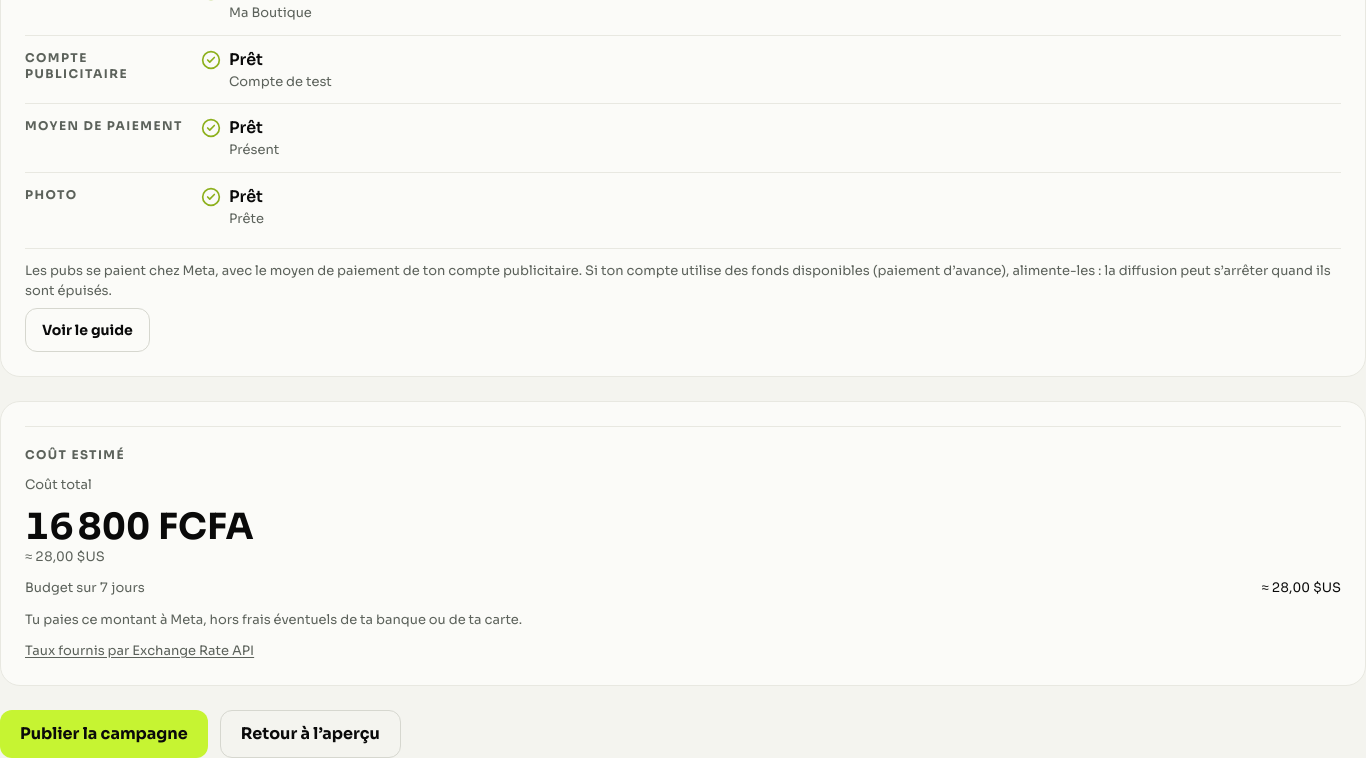
Test: Étape Publier — clause de responsabilité et publication › « Annuler » dans la clause ne publie rien
The image size is (1366, 758).
(page scrolled)
What coordinates should you click on to do the following:
click the button "Publier la campagne"
I would click on:
 (104, 734)
Its box is [0,710,208,757].
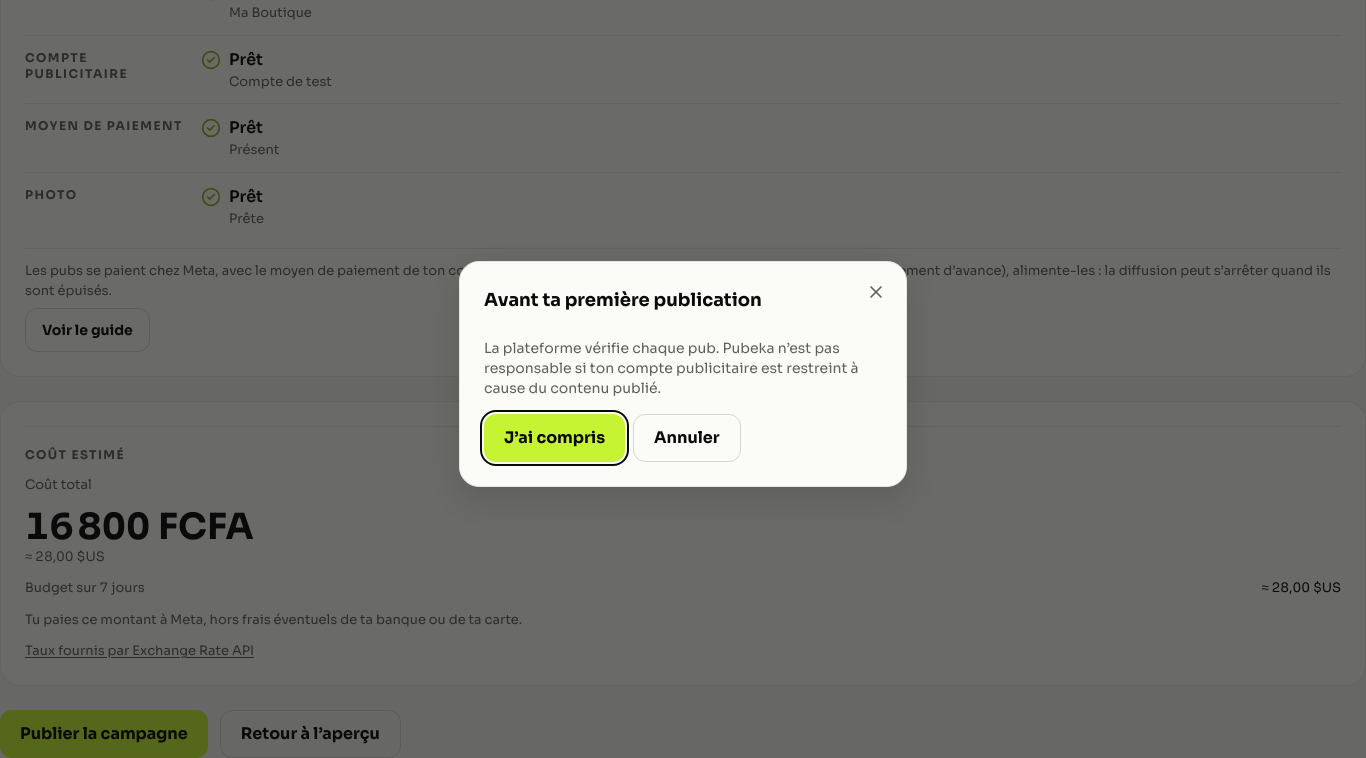
What coordinates should you click on to do the following:
click the button "Annuler"
I would click on:
 (687, 438)
Its box is [633,414,741,462].
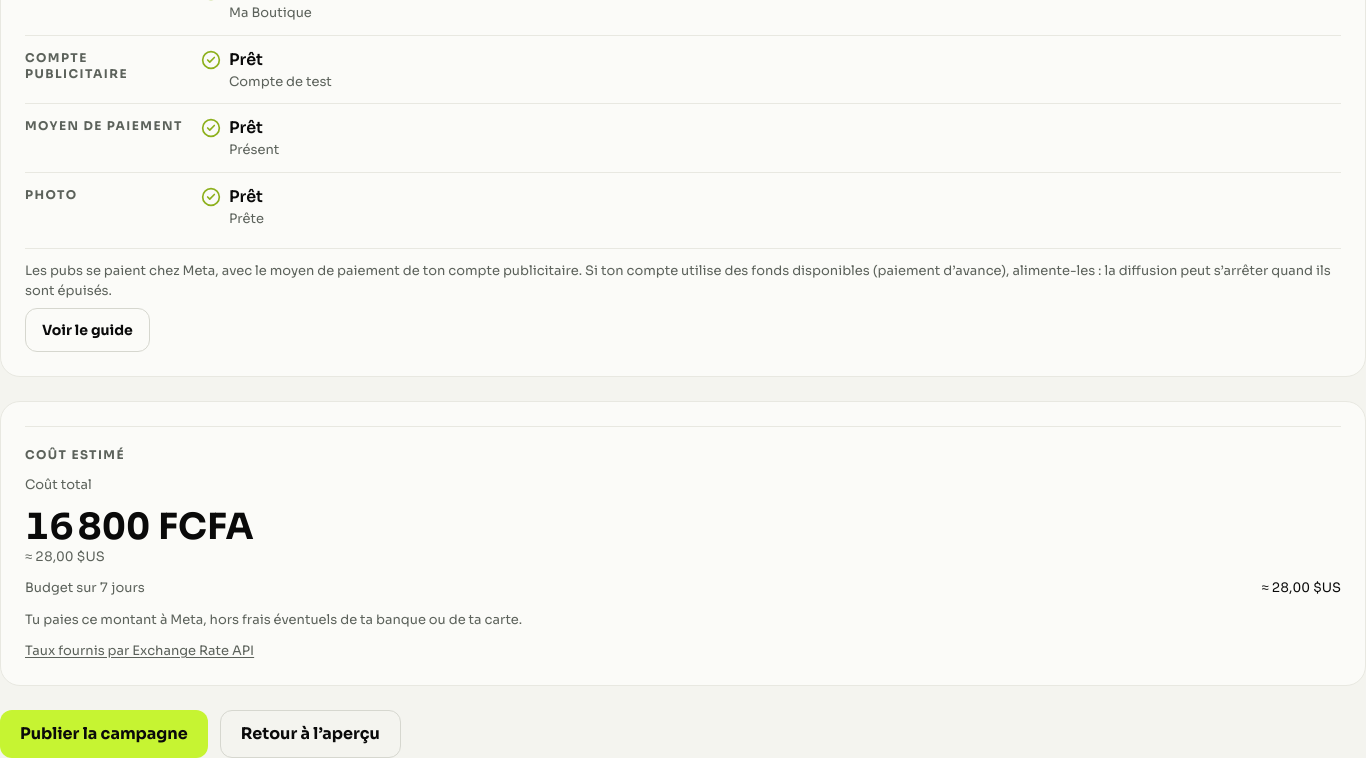
Check: the dialog is gone
